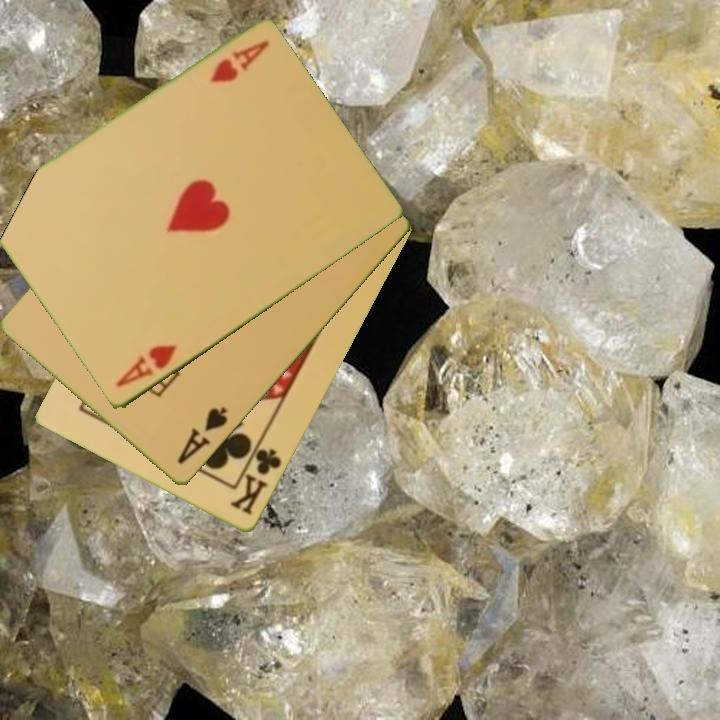Ah: (112, 341, 180, 391), (207, 37, 273, 87)
As: (173, 403, 231, 468)
Kc: (226, 437, 285, 519)
